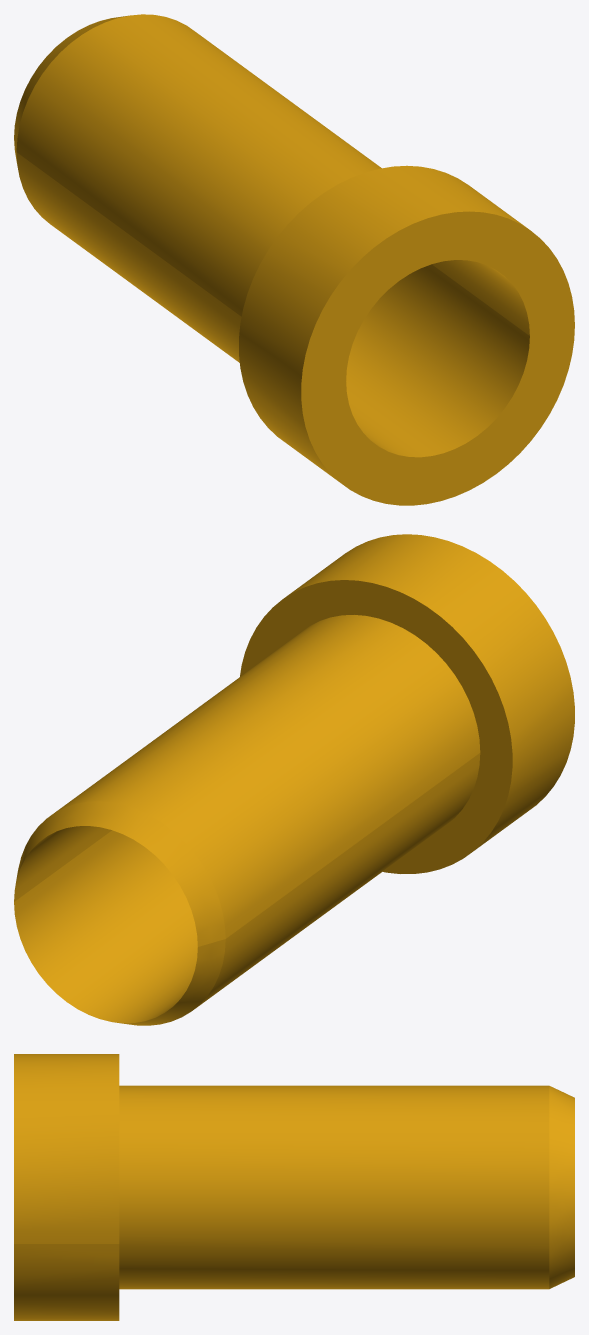
The picture shows the model from 3 angles, top to bottom: view 1: azimuth 30°, elevation 25°; view 2: azimuth 150°, elevation 25°; view 3: azimuth 270°, elevation 25°; orthographic projection. The views are drawn at different scales.
Parts seen in each view (by area): view 1: mill-max-0305-0-15-01-47-XX-10-0; view 2: mill-max-0305-0-15-01-47-XX-10-0; view 3: mill-max-0305-0-15-01-47-XX-10-0.
Part boxes in pixels (left/top/right/bottom): mill-max-0305-0-15-01-47-XX-10-0: left=14, top=14, right=574, bottom=505; mill-max-0305-0-15-01-47-XX-10-0: left=14, top=534, right=574, bottom=1025; mill-max-0305-0-15-01-47-XX-10-0: left=14, top=1054, right=574, bottom=1320.
Size of the model in its own units: 1.93 by 1.93 by 4.05.
